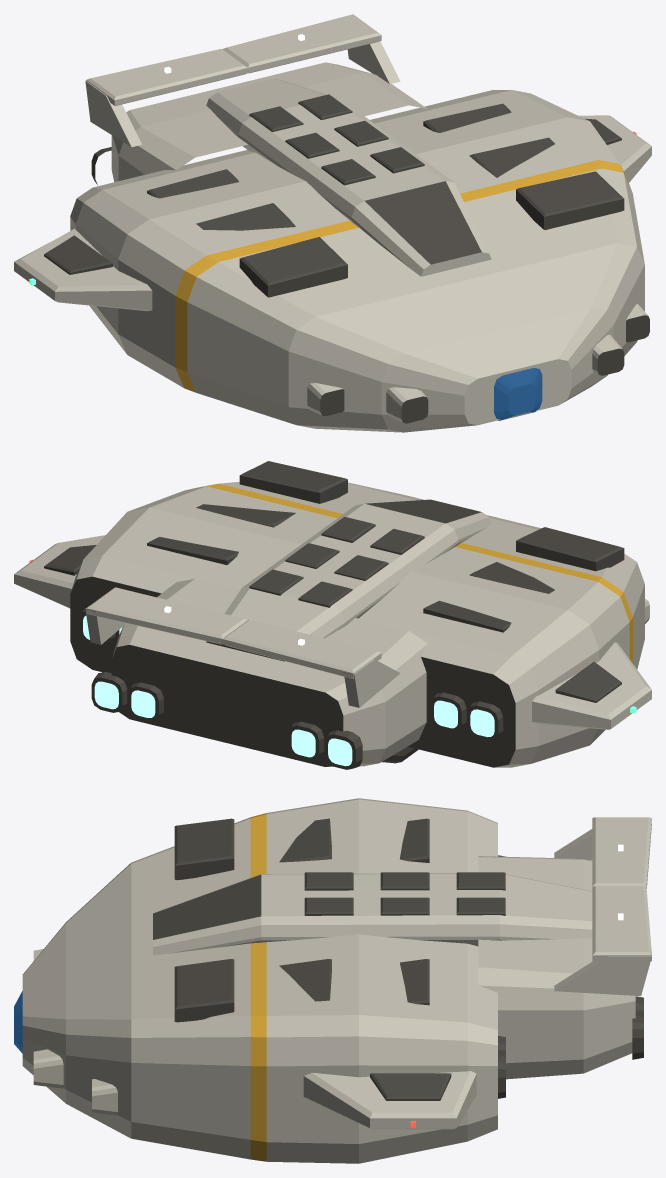
Rendered from type-10.glb.
3 renders of one model, top to bottom at view 1: azimuth 30°, elevation 25°; view 2: azimuth 150°, elevation 25°; view 3: azimuth 270°, elevation 25°, orthographic. The views are drawn at different scales.
Parts seen in each view (by area): view 1: type-10; view 2: type-10; view 3: type-10.
Boxes of the visible parts, bbox=[...] form: type-10: bbox=[14, 14, 651, 432]; type-10: bbox=[14, 461, 651, 769]; type-10: bbox=[14, 798, 651, 1163].
Size of the model in its own units: 136 by 43 by 118.
